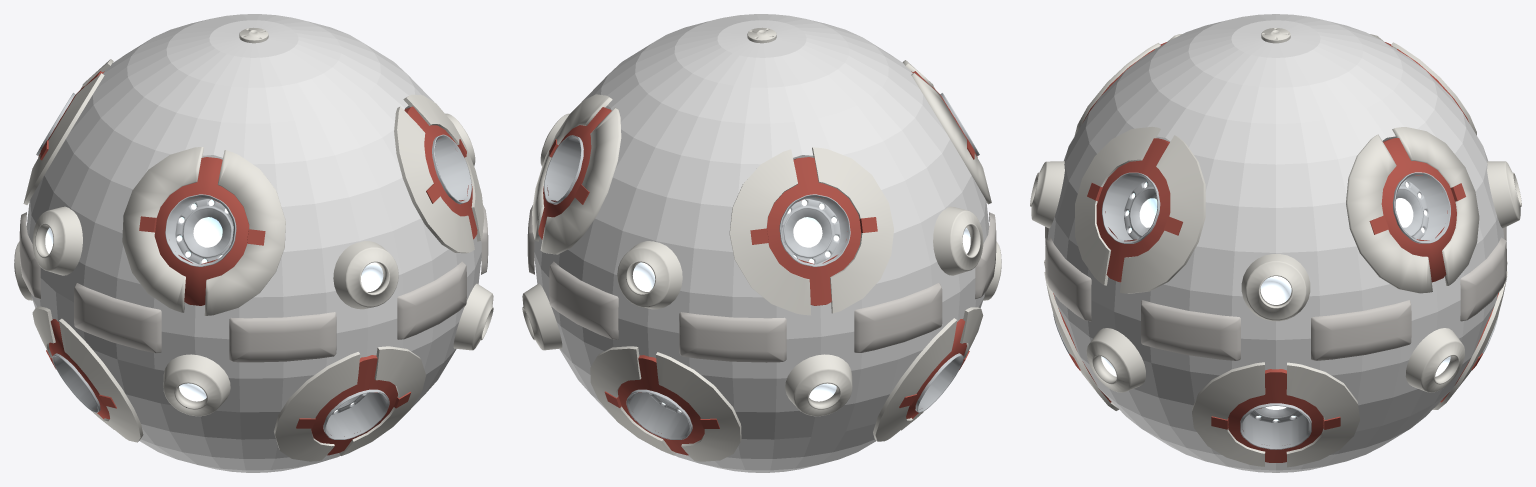
Rendered from JediTrainingRemoteLowerPolyForBlender2.fbx.
3 views of the same model, side by side, from view 1: azimuth 30°, elevation 25°; view 2: azimuth 150°, elevation 25°; view 3: azimuth 270°, elevation 25° (orthographic).
Parts seen in each view (by area): view 1: Training ball, LargeRing4B, LargeRing4A, LargeRelief7, RedRing4, LargeRing1A, LargeRing5B, NewChromeWheel4, LargeRelief6, BigHatch04, BigHatch07, LargeRelief8 (+14 smaller); view 2: Training ball, LargeRing3A, LargeRing3B, LargeRelief4, RedRing3, LargeRing4B.001, LargeRing7A, NewChromeWheel3, LargeRelief5, BigHatch02, BigHatch08, LargeRelief3 (+14 smaller); view 3: Training ball, LargeRing4A.001, LargeRing1B, LargeRelief2, LargeRelief1, LargeRing4B.001, LargeRing1A, LargeRing8A, LargeRing8B, BigHatch01, NewChromeWheel1, RedRing1 (+14 smaller).
Part boxes in pixels (left/top/right/bottom): Training ball: left=26, top=14, right=481, bottom=472; LargeRing4B: left=204, top=150, right=285, bottom=315; LargeRing4A: left=122, top=147, right=203, bottom=312; LargeRelief7: left=229, top=312, right=336, bottom=362; RedRing4: left=154, top=157, right=249, bottom=305; LargeRing1A: left=394, top=106, right=474, bottom=253; LargeRing5B: left=274, top=352, right=360, bottom=461; NewChromeWheel4: left=165, top=194, right=236, bottom=266; LargeRelief6: left=74, top=283, right=161, bottom=353; BigHatch04: left=333, top=241, right=398, bottom=309; BigHatch07: left=163, top=354, right=230, bottom=416; LargeRelief8: left=397, top=261, right=466, bottom=339; Training ball: left=534, top=14, right=989, bottom=472; LargeRing3A: left=729, top=149, right=810, bottom=315; LargeRing3B: left=812, top=147, right=893, bottom=313; LargeRelief4: left=679, top=312, right=786, bottom=362; RedRing3: left=767, top=157, right=861, bottom=305; LargeRing4B.001: left=540, top=107, right=621, bottom=254; LargeRing7A: left=656, top=352, right=741, bottom=461; NewChromeWheel3: left=779, top=194, right=850, bottom=266; LargeRelief5: left=854, top=283, right=942, bottom=352; BigHatch02: left=617, top=241, right=682, bottom=309; BigHatch08: left=785, top=354, right=852, bottom=416; LargeRelief3: left=549, top=261, right=618, bottom=339; Training ball: left=1047, top=14, right=1504, bottom=472; LargeRing4A.001: left=1346, top=134, right=1432, bottom=293; LargeRing1B: left=1120, top=135, right=1205, bottom=293; LargeRelief2: left=1311, top=300, right=1411, bottom=360; LargeRelief1: left=1141, top=300, right=1240, bottom=360; LargeRing4B.001: left=1392, top=127, right=1479, bottom=285; LargeRing1A: left=1075, top=126, right=1160, bottom=285; LargeRing8A: left=1286, top=362, right=1359, bottom=467; LargeRing8B: left=1192, top=362, right=1265, bottom=466; BigHatch01: left=1241, top=254, right=1310, bottom=321; NewChromeWheel1: left=1102, top=172, right=1160, bottom=243; RedRing1: left=1096, top=138, right=1170, bottom=282.
Bounding box in the file's own units: 254 × 241 × 254.
